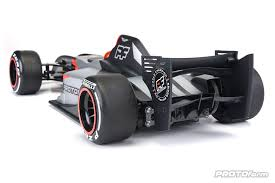f1_car: (4, 31, 269, 151)
